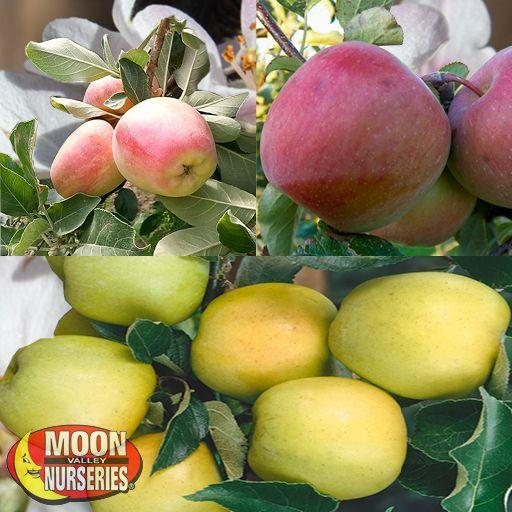apple: (258, 39, 443, 228), (328, 268, 509, 402), (247, 379, 407, 493), (191, 279, 333, 400), (1, 335, 148, 448), (58, 251, 205, 327), (112, 97, 217, 200), (90, 435, 229, 512), (46, 119, 125, 201)
